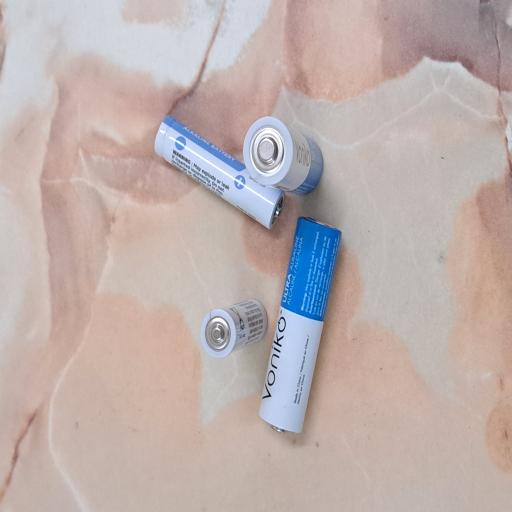battery: (58, 344, 224, 454), (211, 204, 298, 382), (236, 323, 298, 431), (116, 266, 161, 357)
